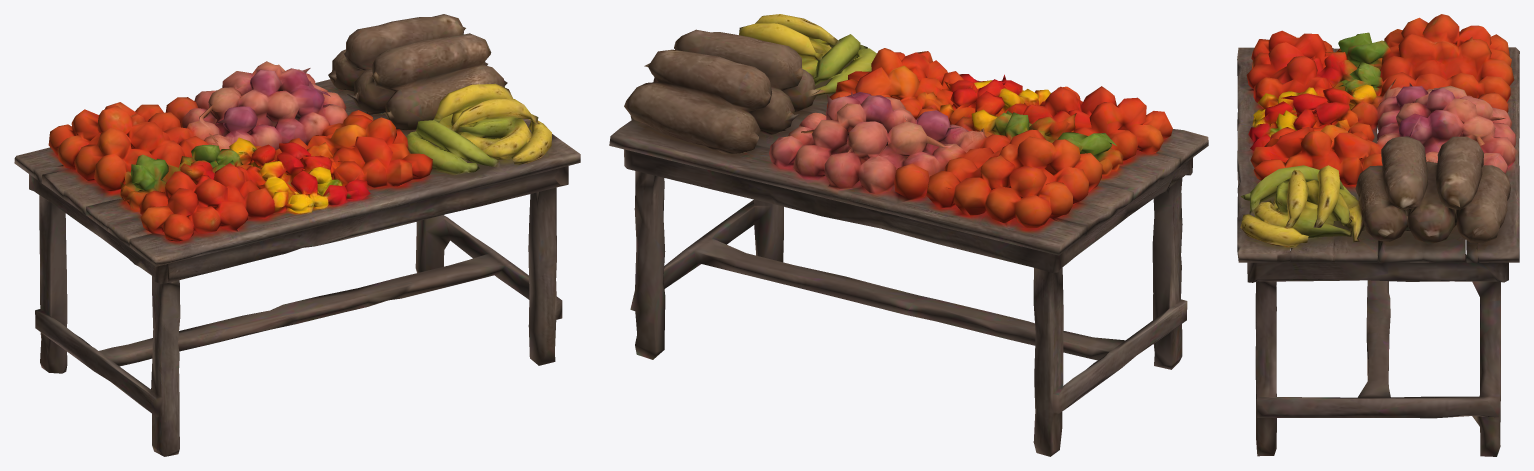
File: market_produce_table.glb
3 views of the same model, side by side, from view 1: azimuth 30°, elevation 25°; view 2: azimuth 150°, elevation 25°; view 3: azimuth 270°, elevation 25° (orthographic). The views are drawn at different scales.
Visible parts, largest first — view 1: tripo_node_d5a91d0d-2a5a-4889-8479-681ef4caac55; view 2: tripo_node_d5a91d0d-2a5a-4889-8479-681ef4caac55; view 3: tripo_node_d5a91d0d-2a5a-4889-8479-681ef4caac55.
Part boxes in pixels (left/top/right/bottom): tripo_node_d5a91d0d-2a5a-4889-8479-681ef4caac55: left=14, top=14, right=580, bottom=456; tripo_node_d5a91d0d-2a5a-4889-8479-681ef4caac55: left=609, top=14, right=1208, bottom=456; tripo_node_d5a91d0d-2a5a-4889-8479-681ef4caac55: left=1237, top=14, right=1519, bottom=456.
Size of the model in its own units: 1 by 0.6217 by 0.5733.
1 material, 1 textured.
